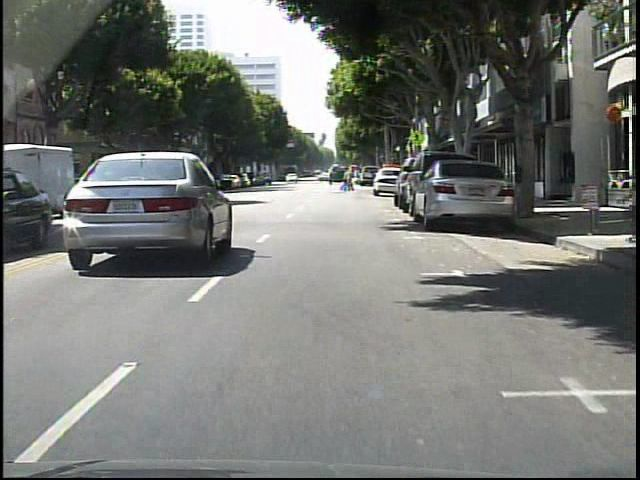person: (343, 165, 357, 191)
